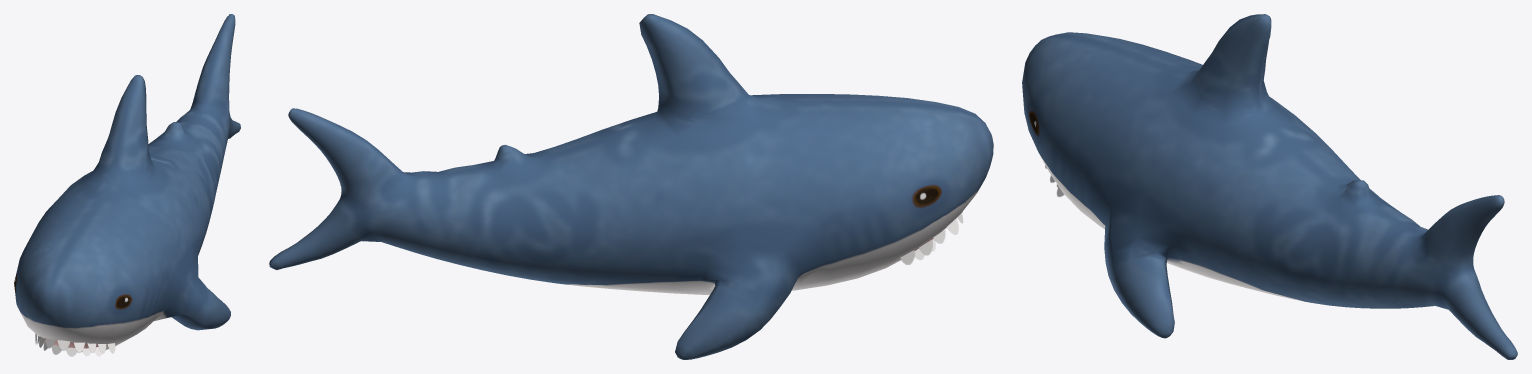
Rendered from blahaj.glb.
3 renders of one model, left to right at view 1: azimuth 30°, elevation 25°; view 2: azimuth 150°, elevation 25°; view 3: azimuth 270°, elevation 25°, orthographic. The views are drawn at different scales.
Parts seen in each view (by area): view 1: Low_poly_blahaj1; view 2: Low_poly_blahaj1; view 3: Low_poly_blahaj1.
Part boxes in pixels (left/top/right/bottom): Low_poly_blahaj1: left=14, top=14, right=240, bottom=356; Low_poly_blahaj1: left=269, top=14, right=993, bottom=359; Low_poly_blahaj1: left=1022, top=14, right=1517, bottom=359.
Bounding box in the file's own units: 0.0571 × 0.0325 × 0.0499.
Materials: 2 (2 with a texture image).
